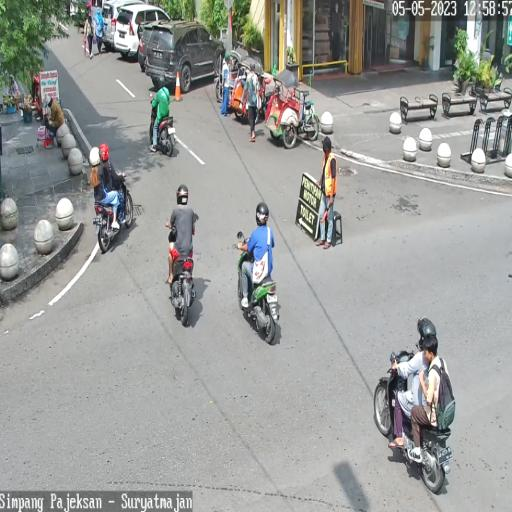mobil: (148, 21, 226, 94), (114, 6, 170, 61)
motor: (374, 347, 456, 494), (235, 229, 283, 344), (164, 208, 200, 330), (91, 164, 134, 257), (148, 90, 175, 158)
